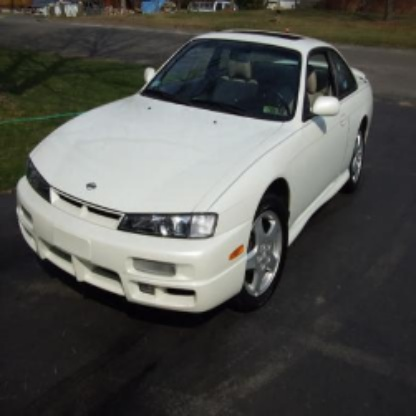Vehicle: (16, 32, 375, 317)
